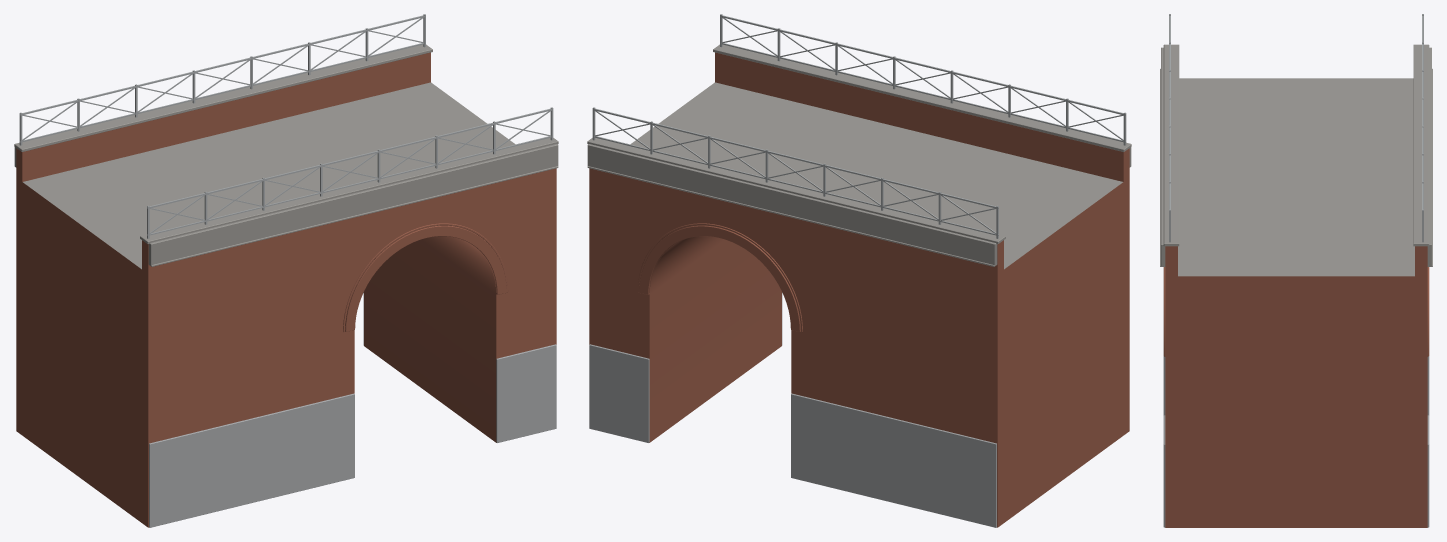
File: linkebeek.glb
3 views of the same model, side by side, from view 1: azimuth 30°, elevation 25°; view 2: azimuth 150°, elevation 25°; view 3: azimuth 270°, elevation 25° (orthographic).
Parts seen in each view (by area): view 1: linkebeek; view 2: linkebeek; view 3: linkebeek.
Part boxes in pixels (left/top/right/bottom): linkebeek: left=14, top=14, right=558, bottom=527; linkebeek: left=587, top=14, right=1131, bottom=527; linkebeek: left=1160, top=14, right=1432, bottom=527.
Size of the model in its own units: 15.1 by 11.2 by 8.74.
